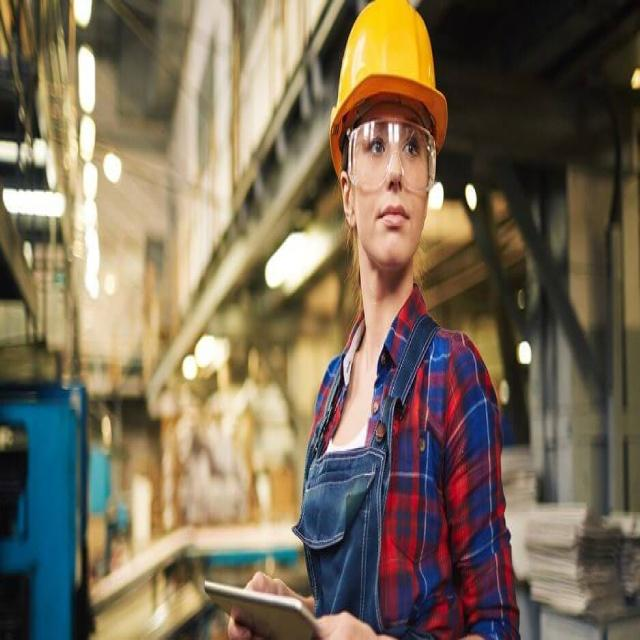helmet: (329, 2, 451, 370)
